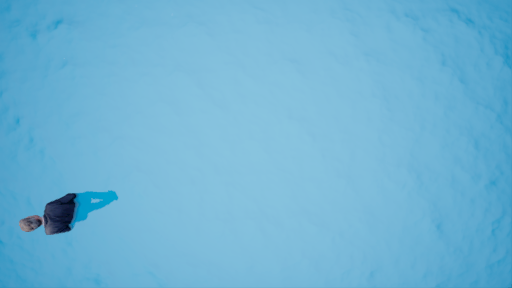person: (16, 190, 123, 243)
